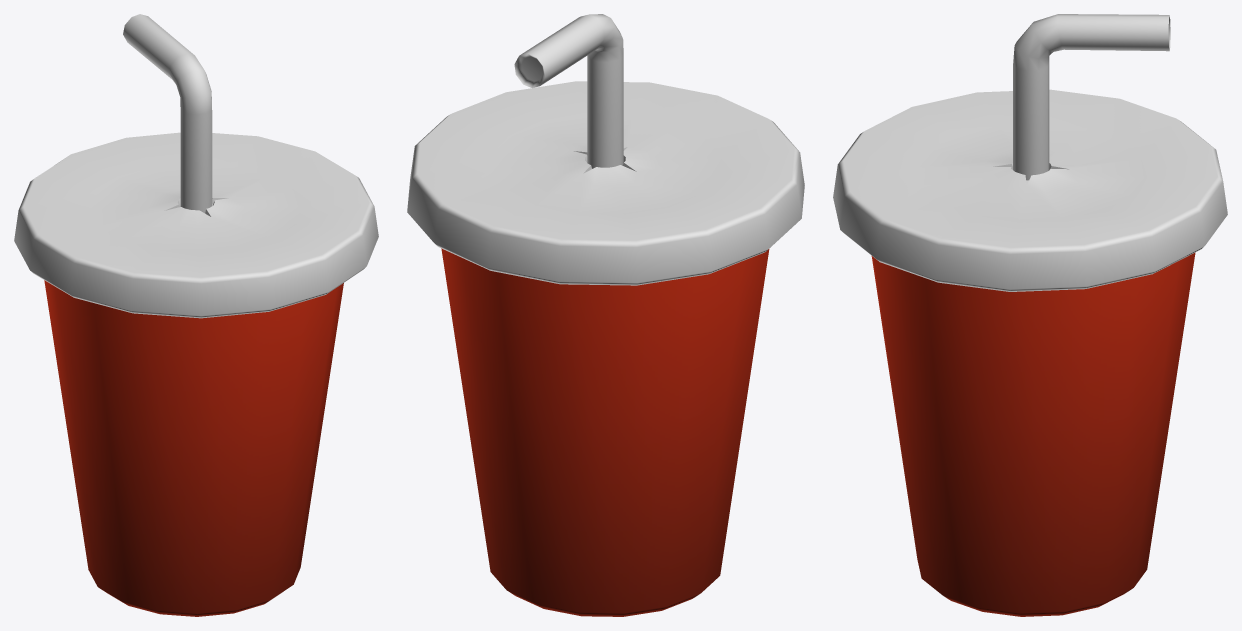
File: cola.fbx
3 views of the same model, side by side, from view 1: azimuth 30°, elevation 25°; view 2: azimuth 150°, elevation 25°; view 3: azimuth 270°, elevation 25° (orthographic). The views are drawn at different scales.
Visible parts, largest first — view 1: cola; view 2: cola; view 3: cola.
Part boxes in pixels (<box>): cola: <box>14,14,378,616</box>; cola: <box>407,14,804,616</box>; cola: <box>833,14,1227,616</box>.
Bounding box in the file's own units: 12.87 × 20.12 × 12.87.
1 material, 1 textured.
